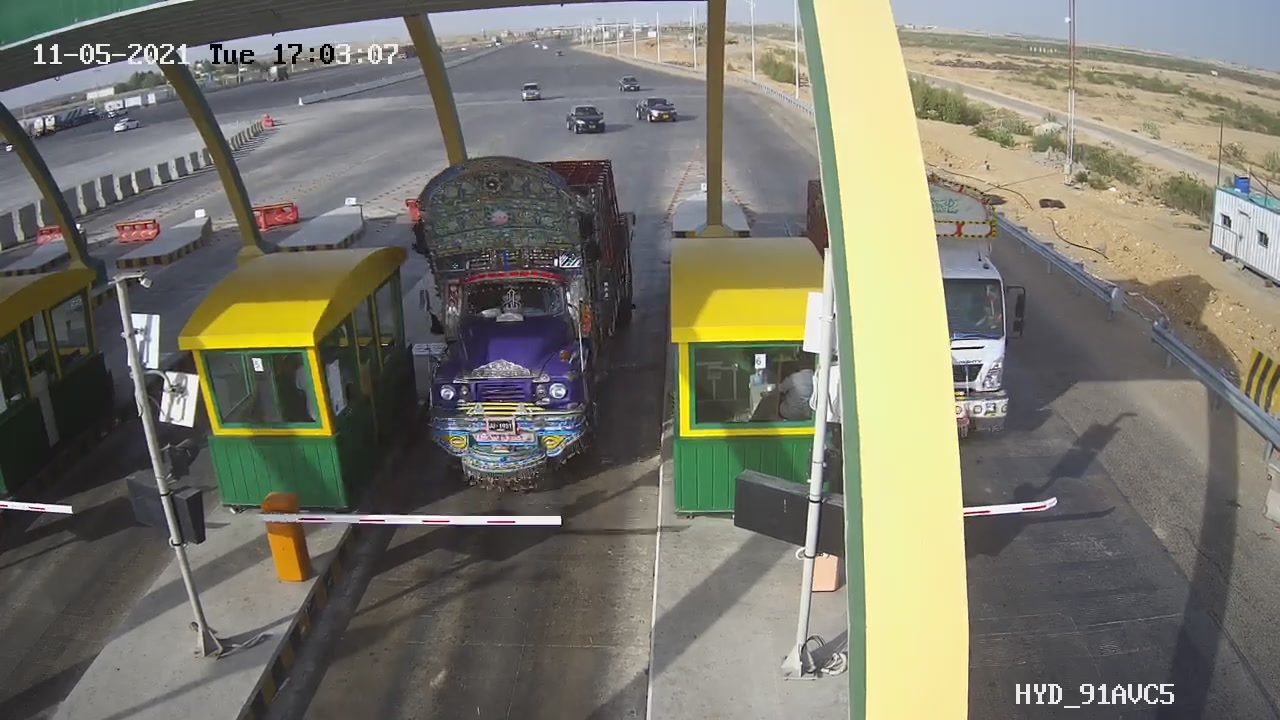F5: (378, 143, 653, 518)
